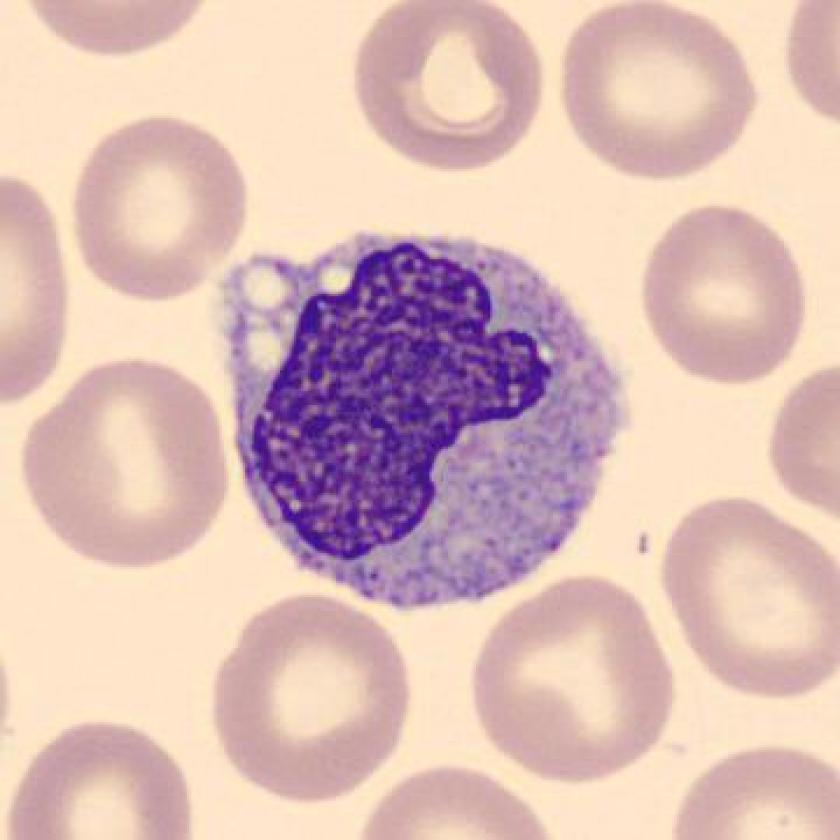monocyte: (204, 205, 643, 626)
